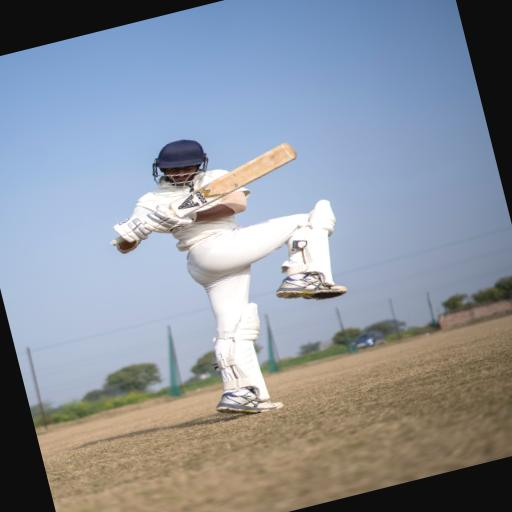shoe: (276, 274, 346, 300), (216, 391, 283, 413)
